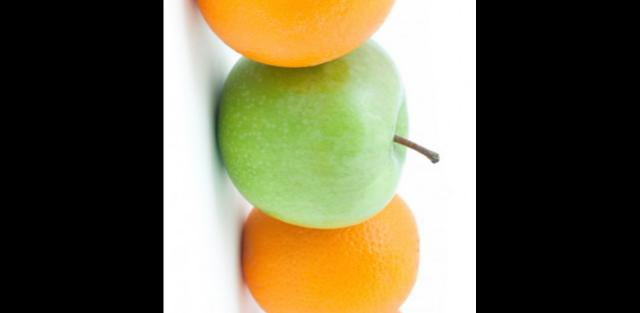Oranges: (242, 192, 419, 313), (191, 0, 403, 62)
